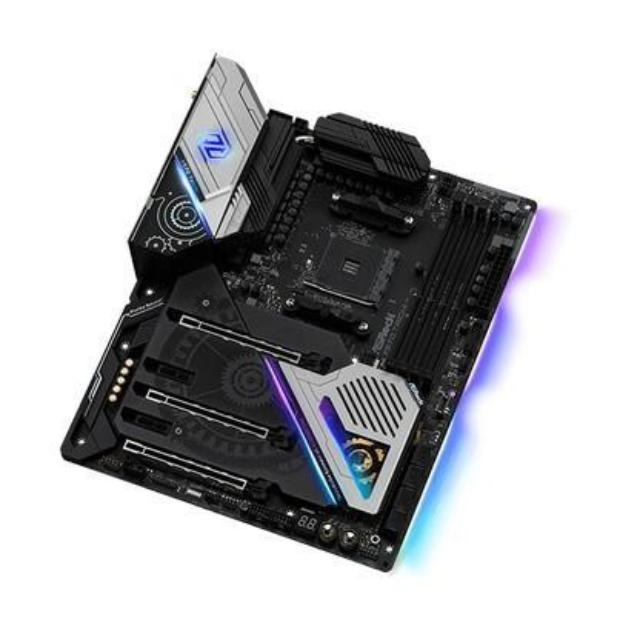Mainboard: (51, 49, 538, 614)
